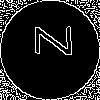Z: (25, 25, 72, 57)
